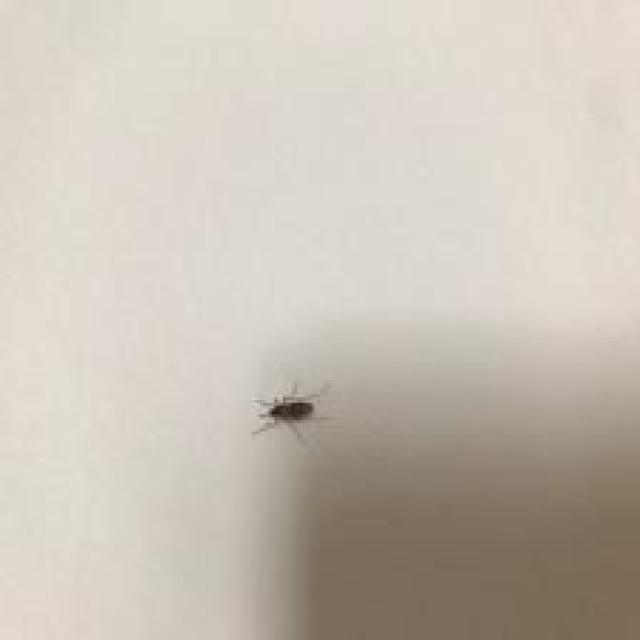Culex: (250, 380, 330, 443)
